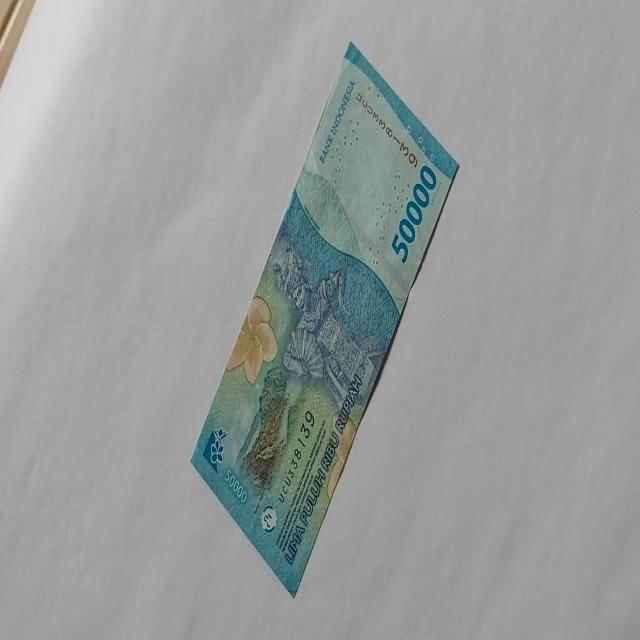lima puluh ribu rupiah: (189, 39, 460, 598), (390, 163, 437, 265)
